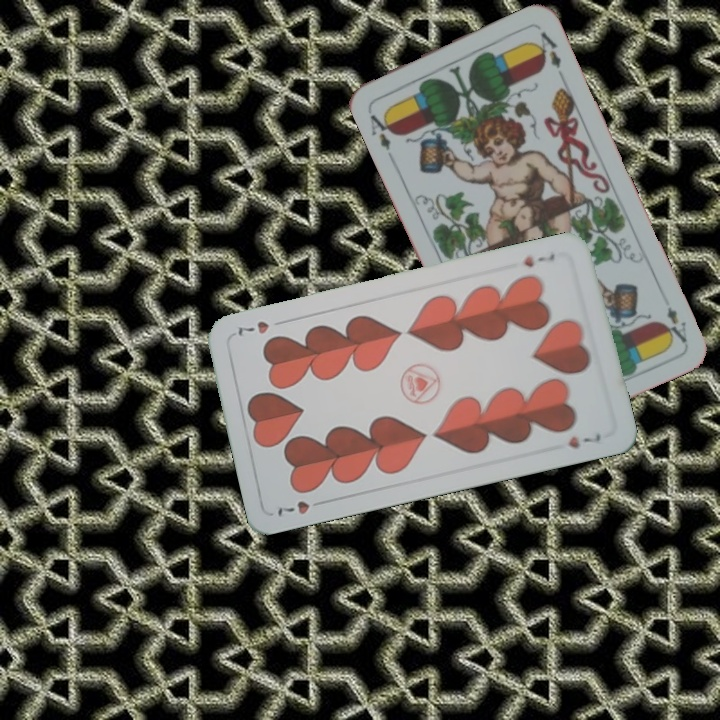EA: (366, 107, 399, 153), (659, 302, 690, 346)
H7: (273, 496, 329, 519), (520, 249, 558, 270)
